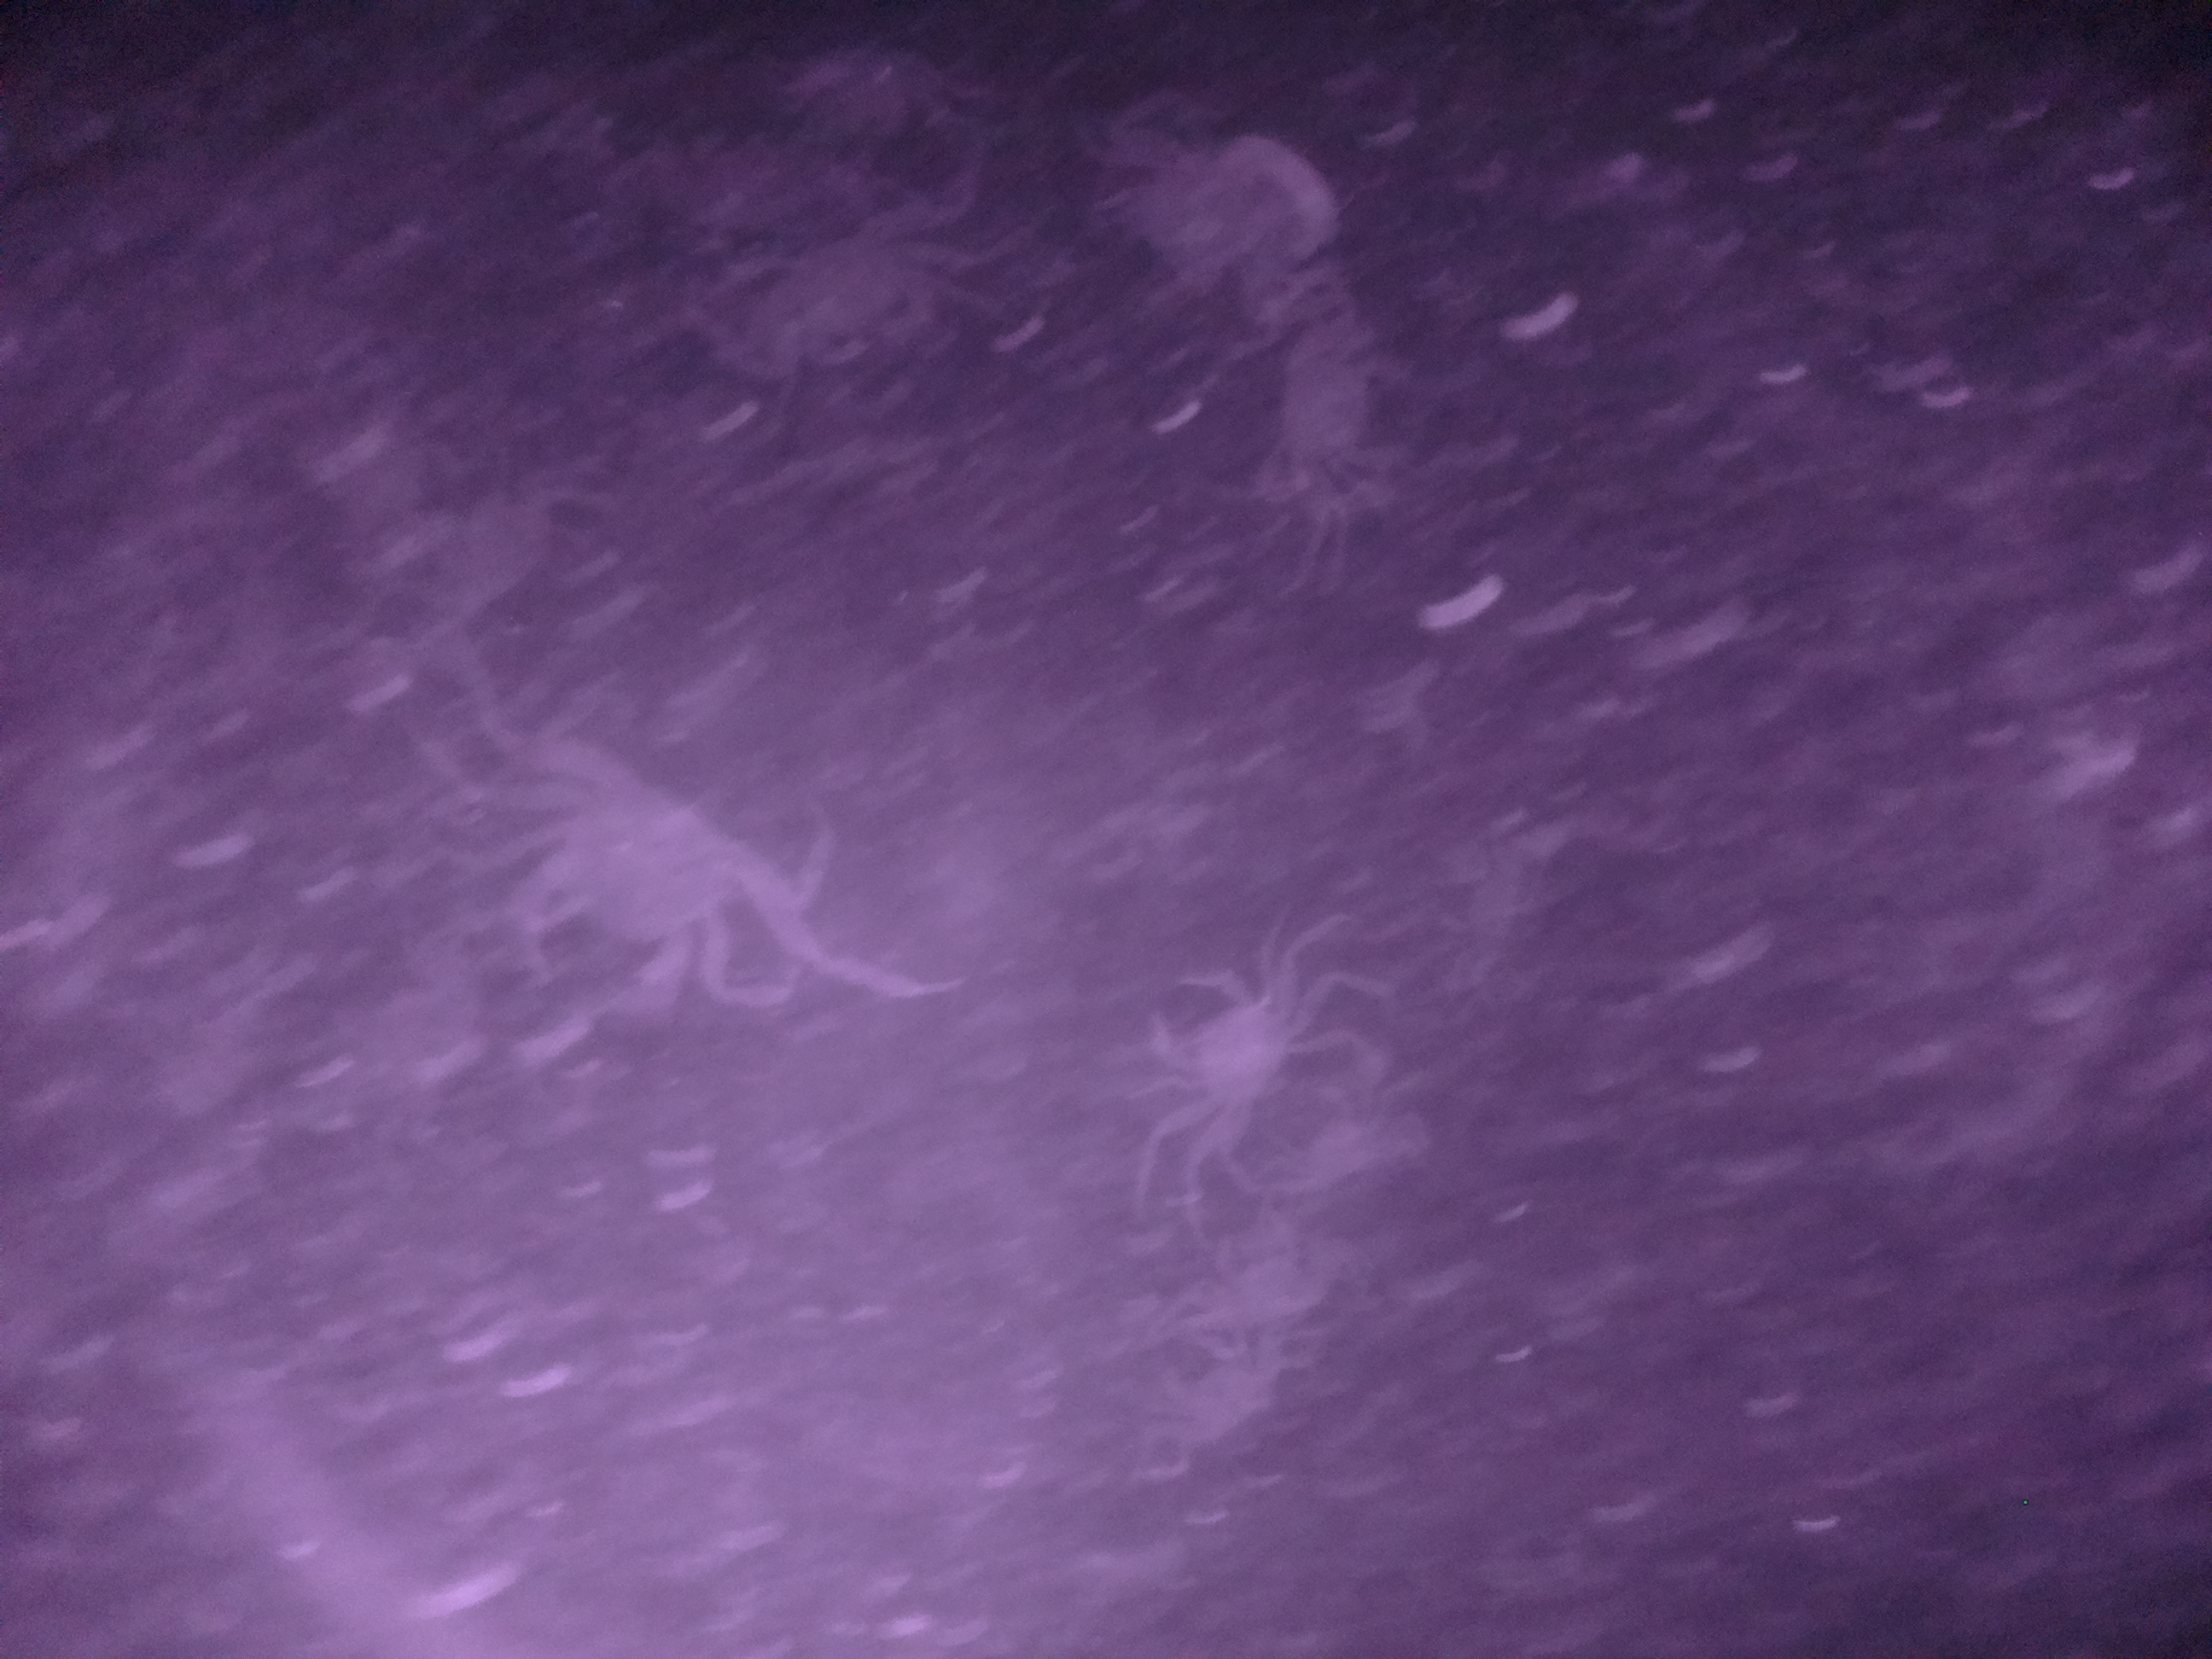Crab: (740, 192, 953, 399), (1115, 953, 1341, 1136), (1256, 301, 1426, 502)
